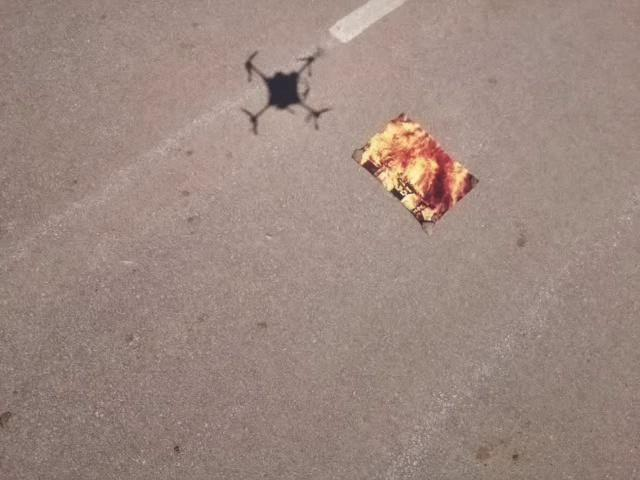fire-poster: (350, 110, 480, 232)
